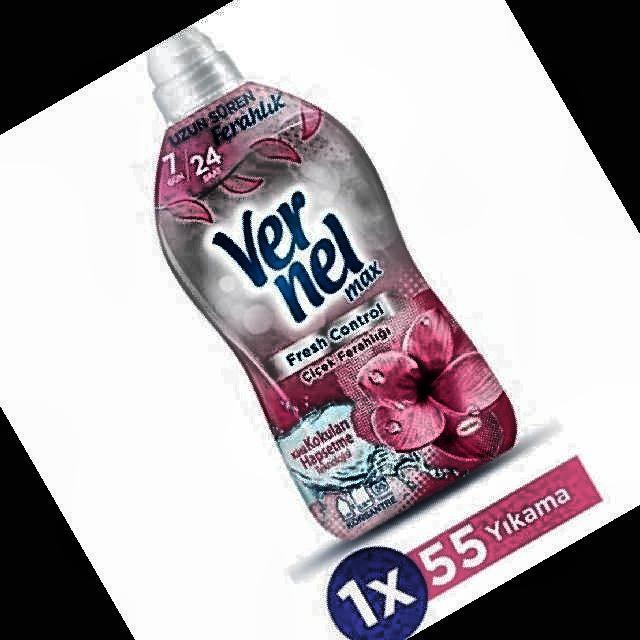plastic: (148, 29, 515, 539)
